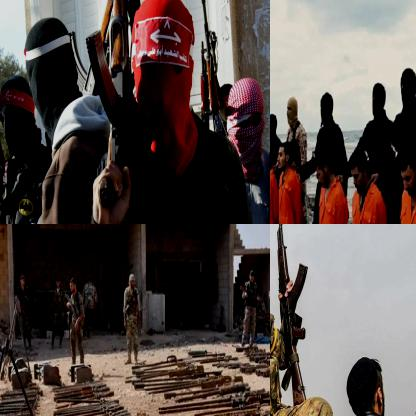rifle: (84, 0, 135, 223), (69, 0, 146, 98), (272, 224, 308, 406), (197, 0, 225, 137)
